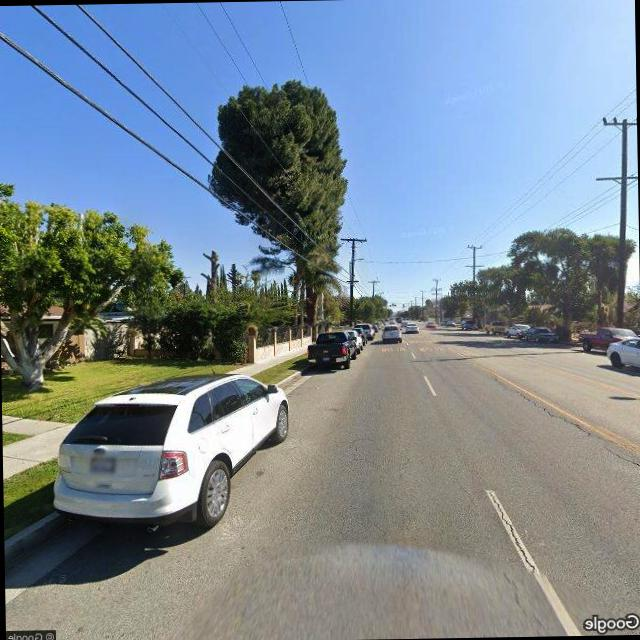pothole: (497, 374, 635, 461), (486, 483, 532, 578)
